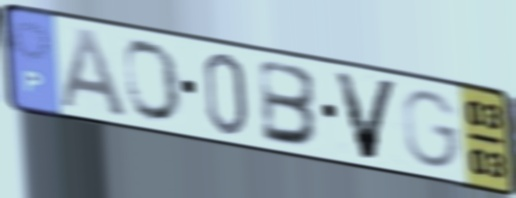0: (200, 50, 252, 140)
A: (56, 24, 132, 122)
B: (257, 55, 323, 150)
G: (399, 87, 463, 172)
O: (121, 37, 186, 126)
V: (329, 66, 403, 163)
